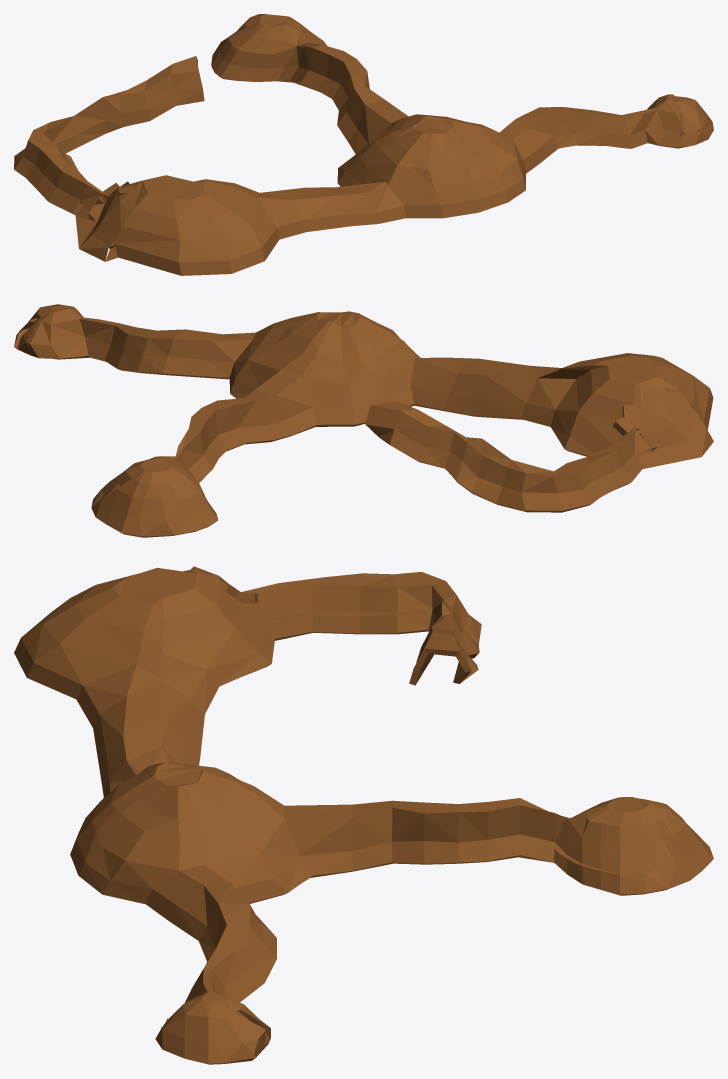
3 renders of one model, top to bottom at view 1: azimuth 30°, elevation 25°; view 2: azimuth 150°, elevation 25°; view 3: azimuth 270°, elevation 25°, orthographic. The views are drawn at different scales.
Parts seen in each view (by area): view 1: Plane.012; view 2: Plane.012; view 3: Plane.012.
Boxes of the visible parts, x1=… form: Plane.012: x1=14, y1=14, x2=713, y2=275; Plane.012: x1=14, y1=304, x2=713, y2=537; Plane.012: x1=14, y1=566, x2=713, y2=1064.
Bounding box in the file's own units: 9777 × 1536 × 6912.
